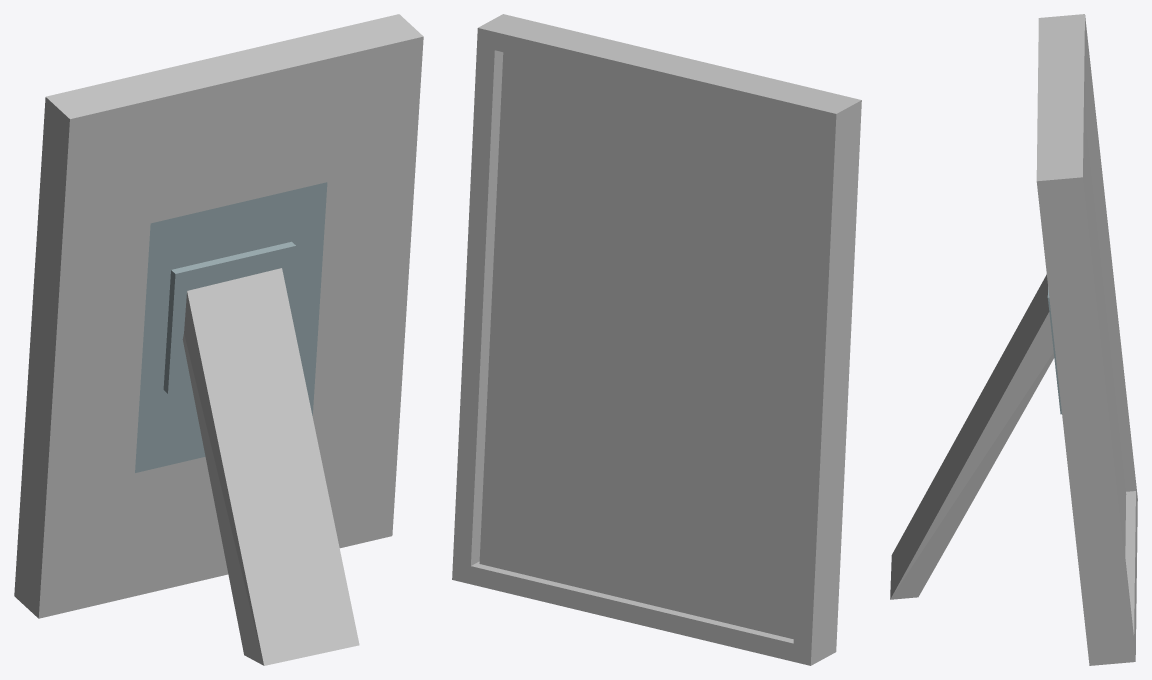
3 renders of one model, left to right at view 1: azimuth 30°, elevation 25°; view 2: azimuth 150°, elevation 25°; view 3: azimuth 270°, elevation 25°, orthographic. The views are drawn at different scales.
Bounding box in the file's own units: 0.4139 × 0.5848 × 0.2666.
